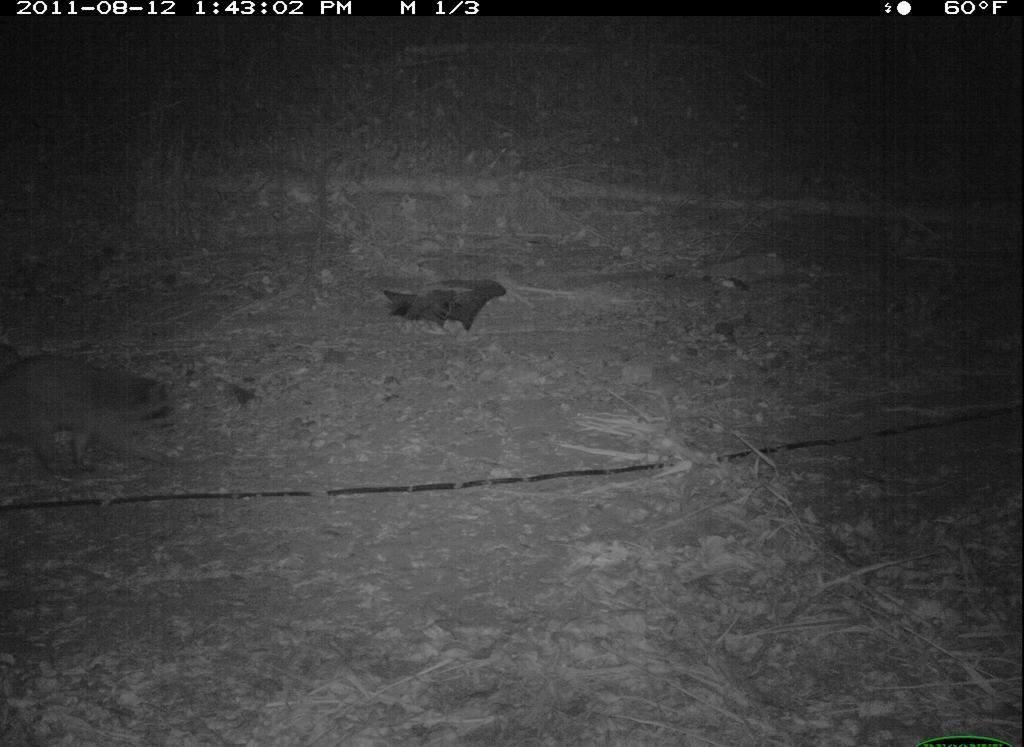raccoon: (2, 331, 191, 497)
